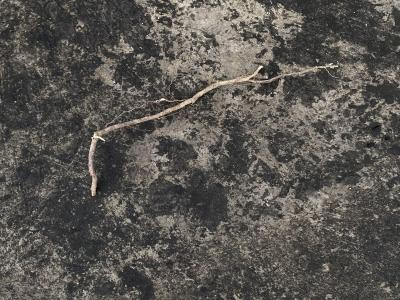Root: (88, 65, 332, 195)
